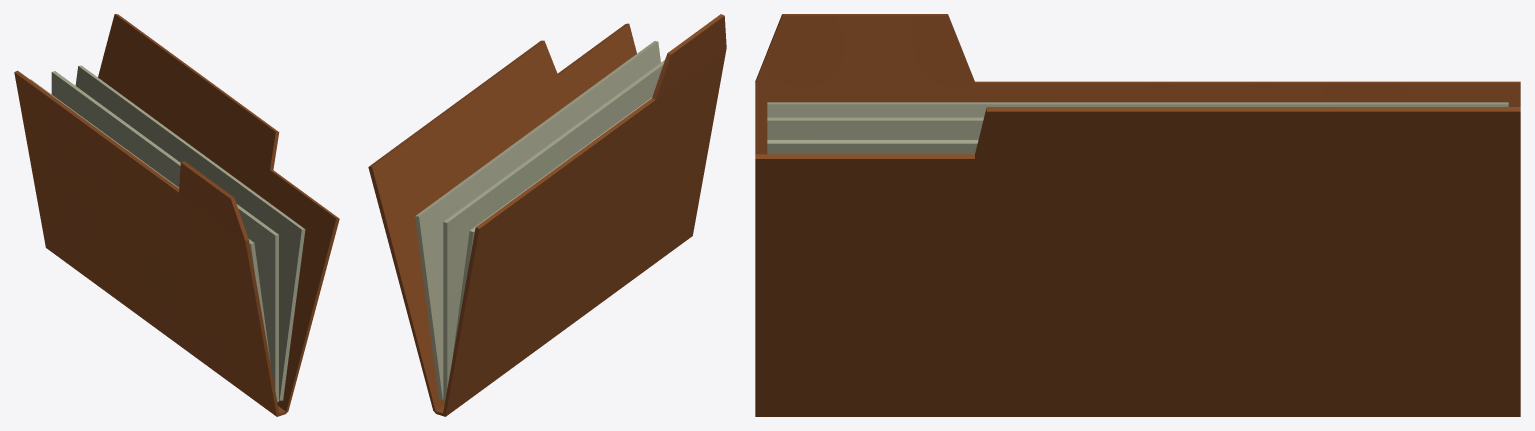
Rendered from docs.fbx.
3 views of the same model, side by side, from view 1: azimuth 30°, elevation 25°; view 2: azimuth 150°, elevation 25°; view 3: azimuth 270°, elevation 25° (orthographic). The views are drawn at different scales.
Parts seen in each view (by area): view 1: Plane, Plane.001; view 2: Plane, Plane.001; view 3: Plane, Plane.001.
Boxes of the visible parts, left/top/right/bottom form: Plane: left=14, top=14, right=339, bottom=416; Plane.001: left=30, top=65, right=305, bottom=401; Plane: left=368, top=14, right=726, bottom=416; Plane.001: left=415, top=41, right=664, bottom=400; Plane: left=755, top=14, right=1520, bottom=416; Plane.001: left=767, top=102, right=1508, bottom=154.
Size of the model in its own units: 30.65 by 58.95 by 111.
